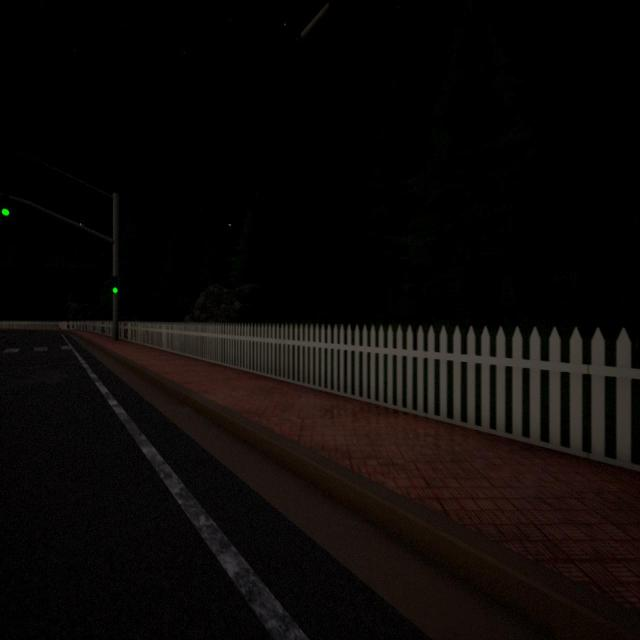traffic_light: (1, 198, 10, 216), (112, 276, 119, 294)
